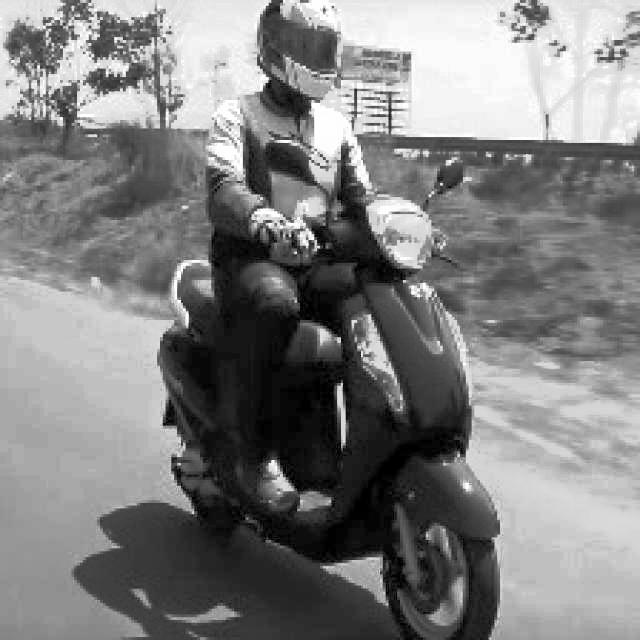Bike: (161, 214, 515, 639)
